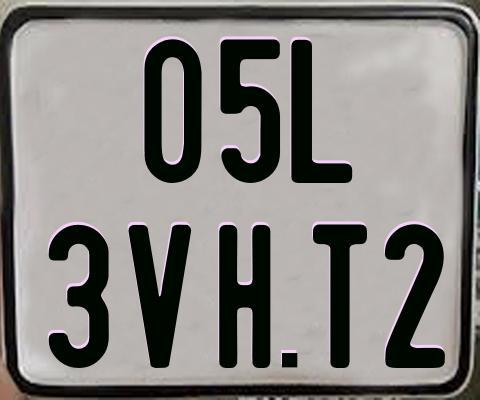0: (144, 36, 208, 182)
2: (383, 224, 446, 371)
3: (48, 222, 110, 366)
5: (217, 36, 279, 185)
H: (219, 224, 277, 373)
L: (288, 37, 354, 186)
T: (310, 223, 369, 368)
V: (128, 222, 195, 366)
